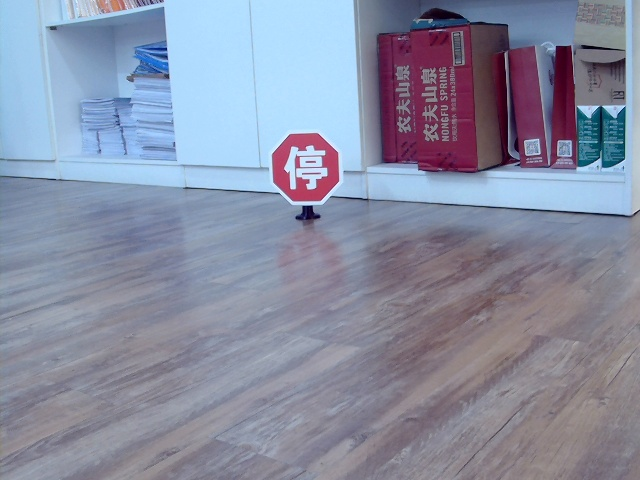stop: (283, 140, 327, 191)
